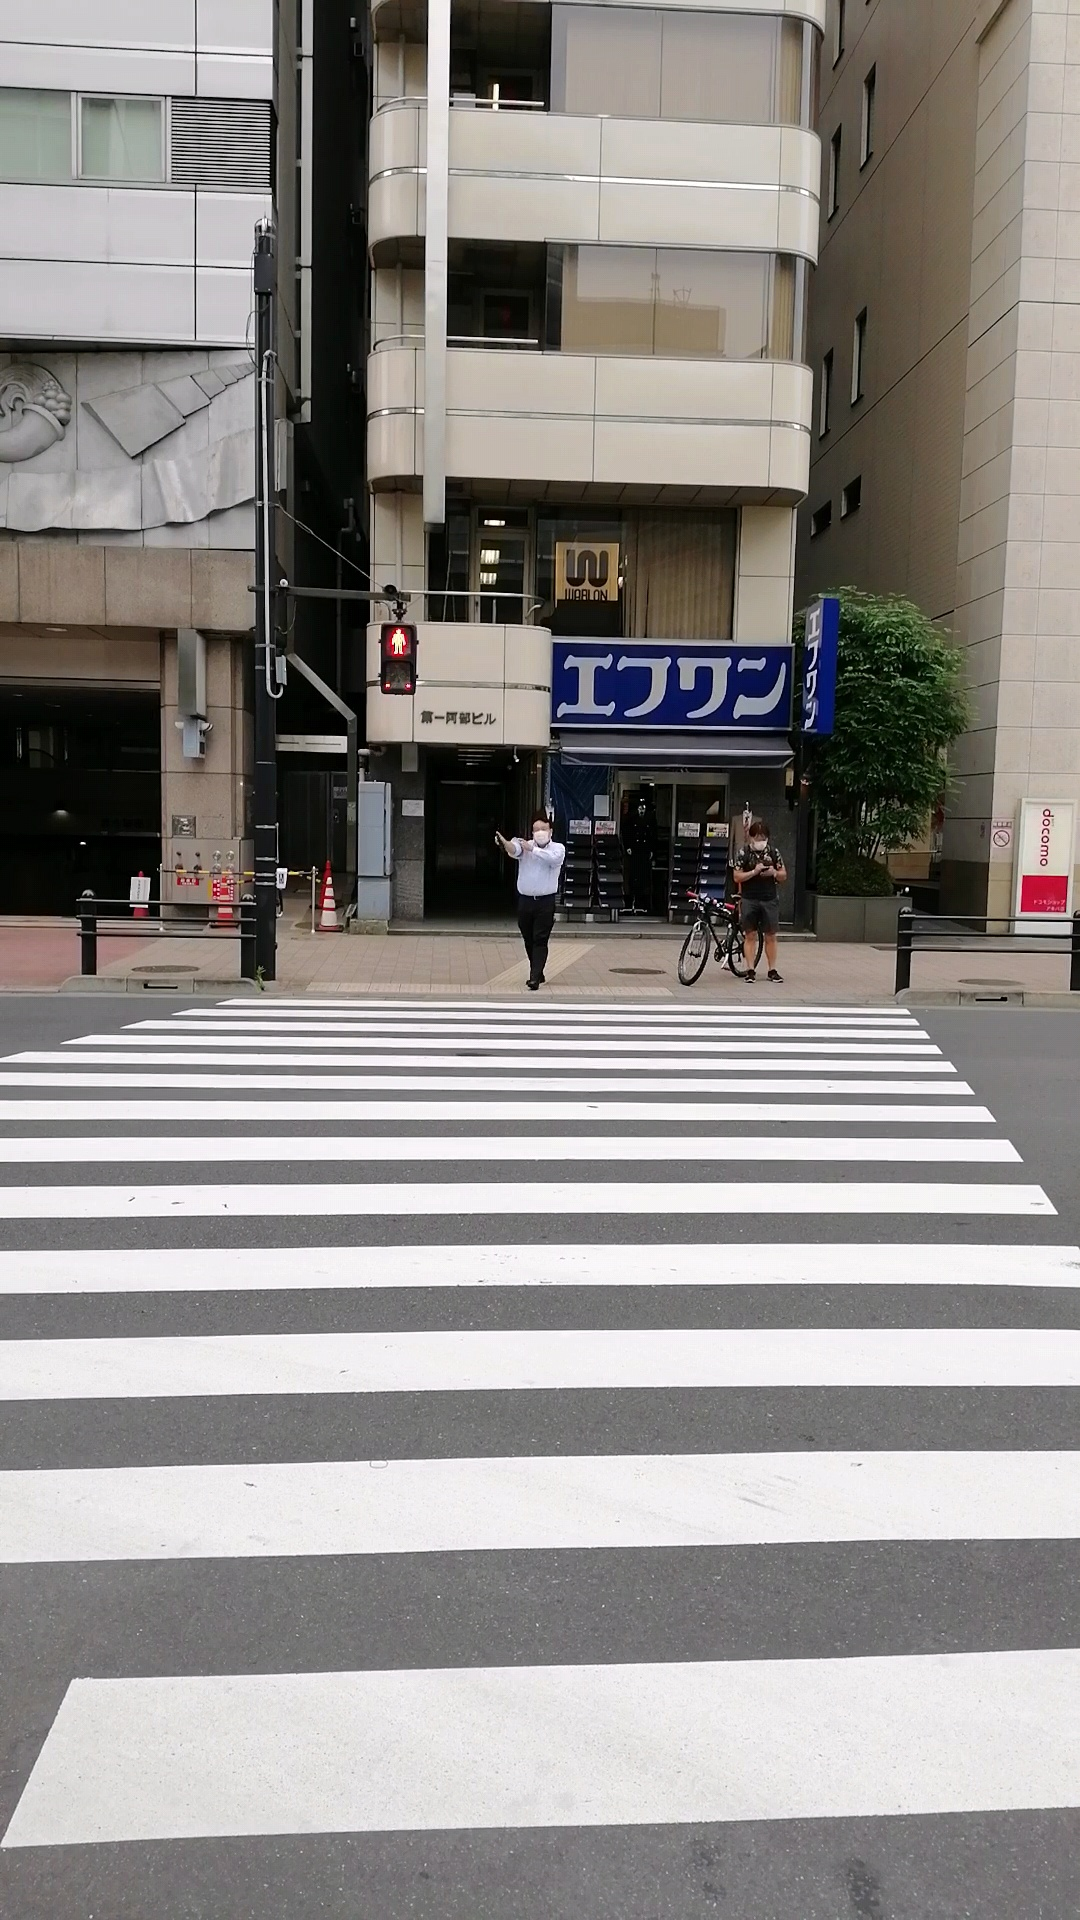red: (380, 622, 415, 694)
